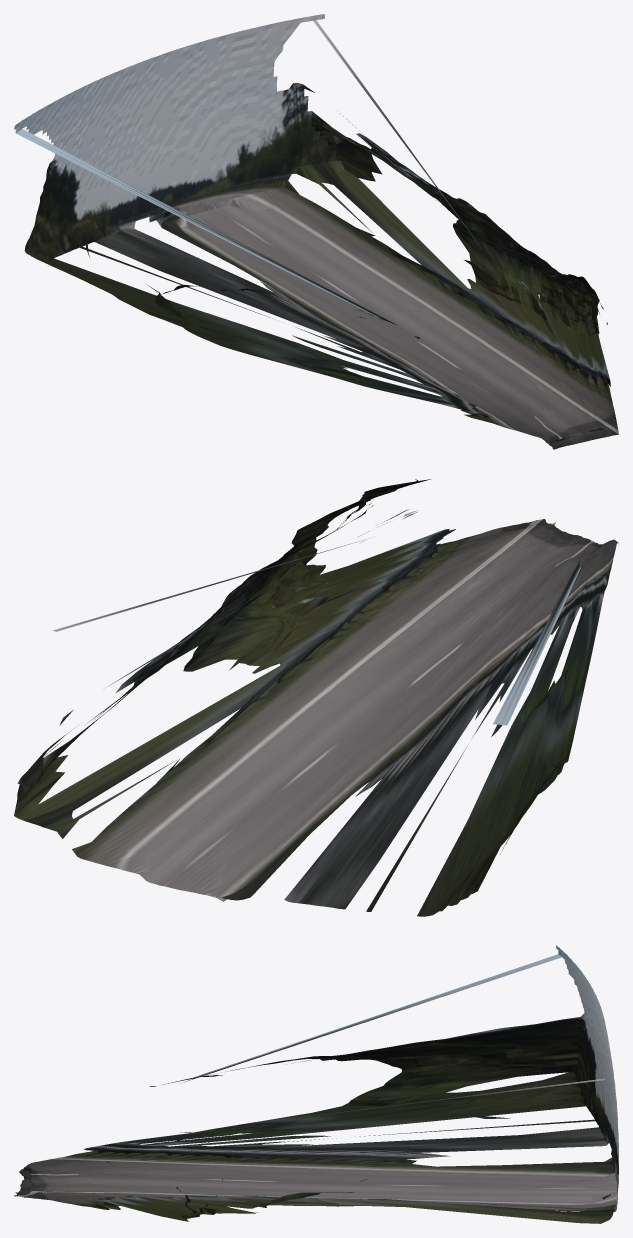
3 views of the same model, one above another, from view 1: azimuth 30°, elevation 25°; view 2: azimuth 150°, elevation 25°; view 3: azimuth 270°, elevation 25° (orthographic). The views are drawn at different scales.
Visible parts, largest first — view 1: defaultobject; view 2: defaultobject; view 3: defaultobject.
Part boxes in pixels (<box>): defaultobject: <box>14,14,618,449</box>; defaultobject: <box>14,479,618,916</box>; defaultobject: <box>14,945,618,1223</box>.
Size of the model in its own units: 27.63 by 12.82 by 44.82.
Materials: 1 (1 with a texture image).
